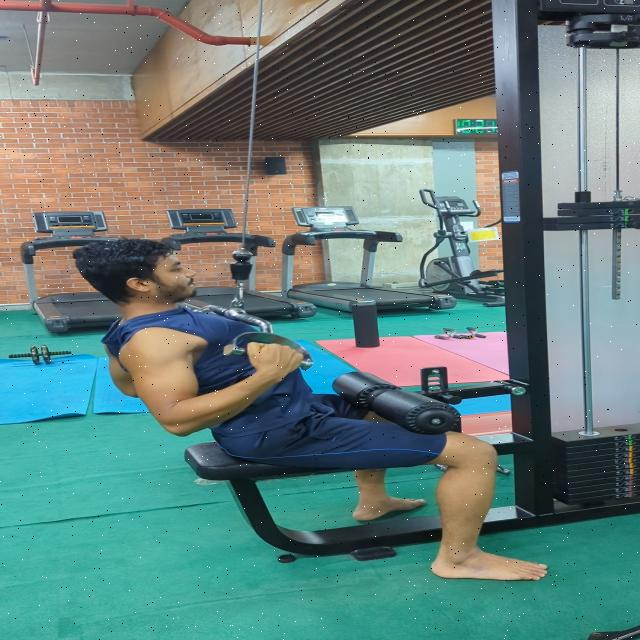Normal_LatPulldown: (59, 230, 578, 587)
